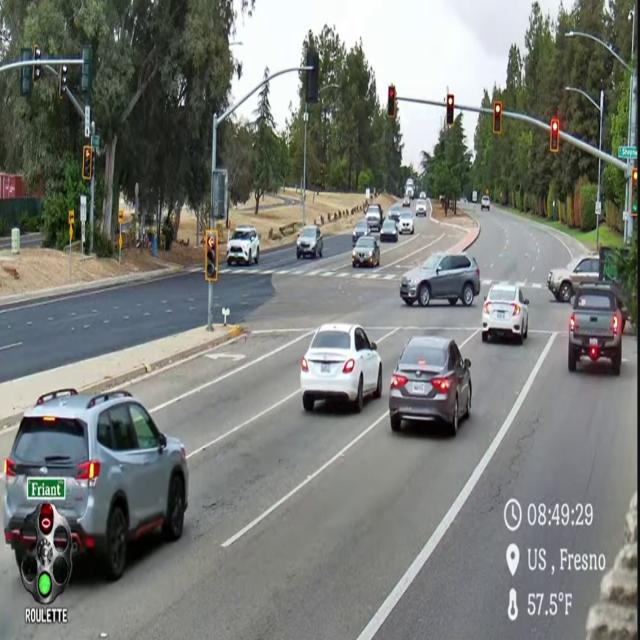car: (4, 390, 188, 579), (389, 336, 471, 435), (300, 324, 382, 412), (400, 253, 480, 306), (482, 282, 529, 343), (547, 255, 599, 302), (227, 226, 259, 265), (296, 225, 323, 259), (352, 236, 380, 268), (352, 218, 372, 247), (365, 205, 383, 231), (380, 218, 398, 242), (398, 211, 414, 234), (416, 198, 427, 216), (388, 208, 400, 221), (481, 196, 490, 211), (403, 195, 410, 207), (419, 192, 426, 199)
traffic signal: (205, 229, 219, 283), (306, 49, 319, 103), (81, 45, 92, 97), (82, 145, 93, 181), (21, 66, 32, 96), (550, 119, 559, 153), (59, 65, 68, 99), (493, 101, 502, 135), (388, 85, 396, 119), (446, 94, 454, 127), (632, 168, 637, 216), (32, 65, 41, 82), (632, 168, 637, 188)
truck: (568, 282, 623, 375), (598, 248, 630, 331), (405, 178, 414, 199)
